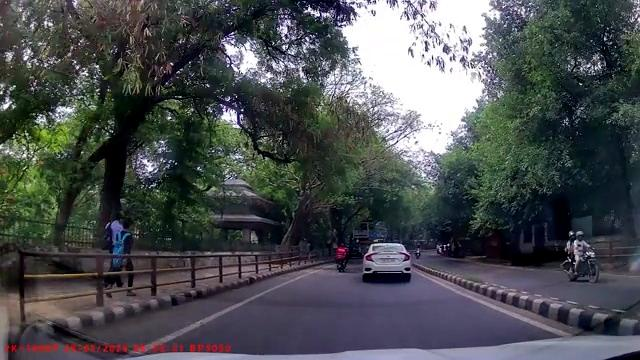passenger_with_helmet: (561, 229, 603, 283)
